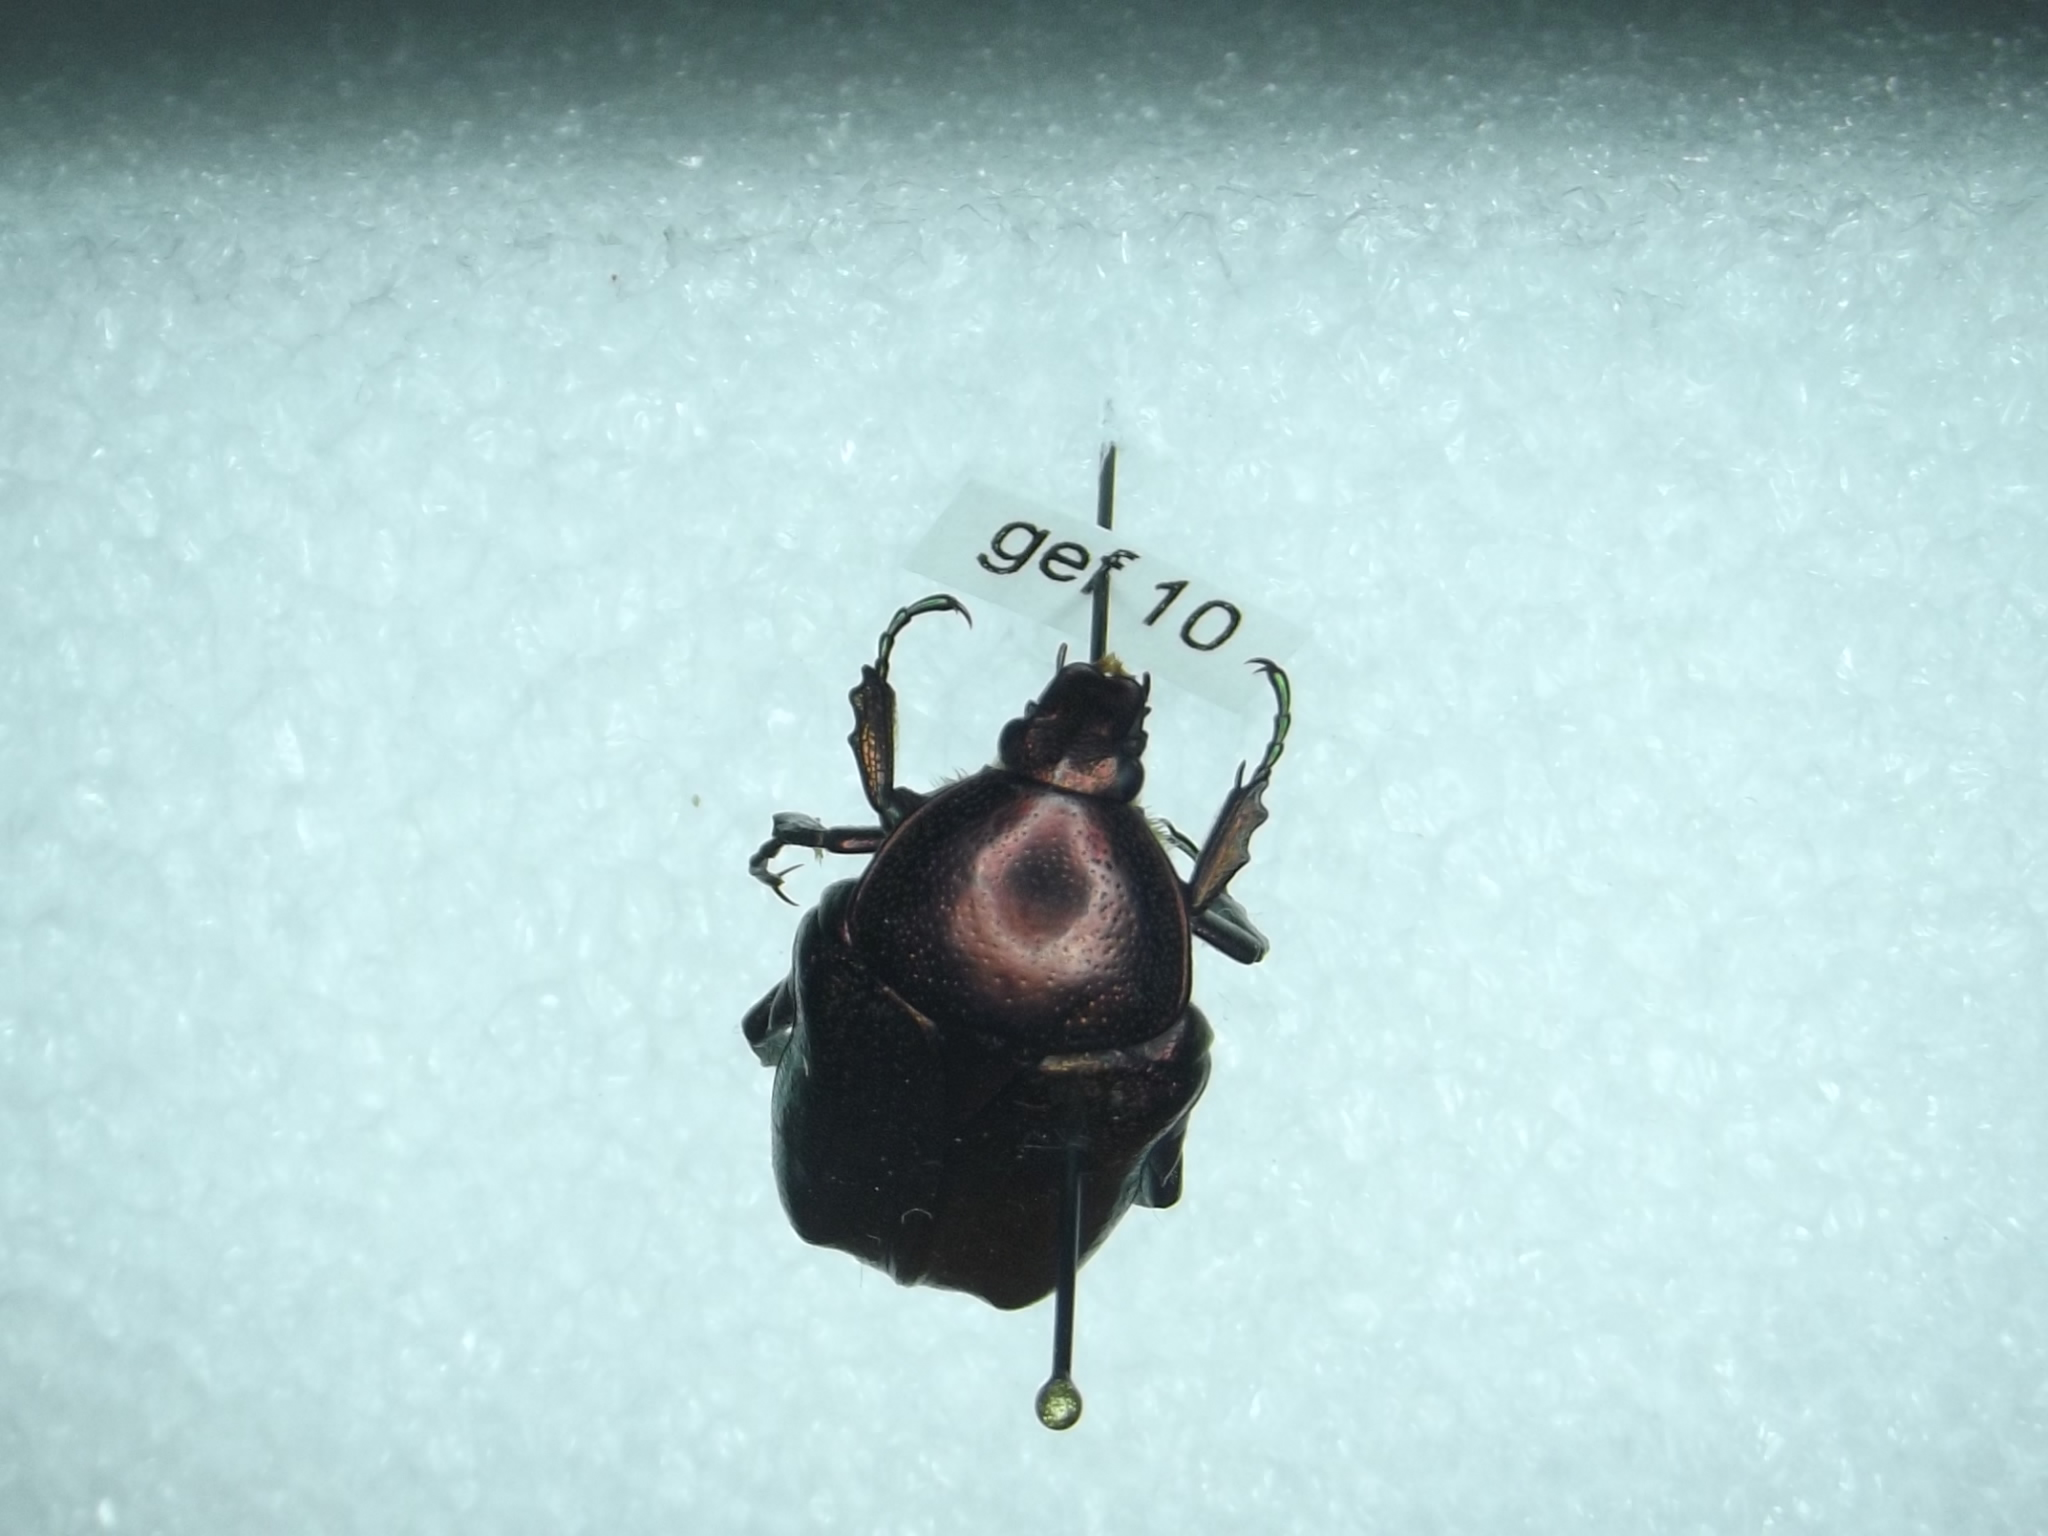Cetonia_aurata: (743, 587, 1298, 1333)
